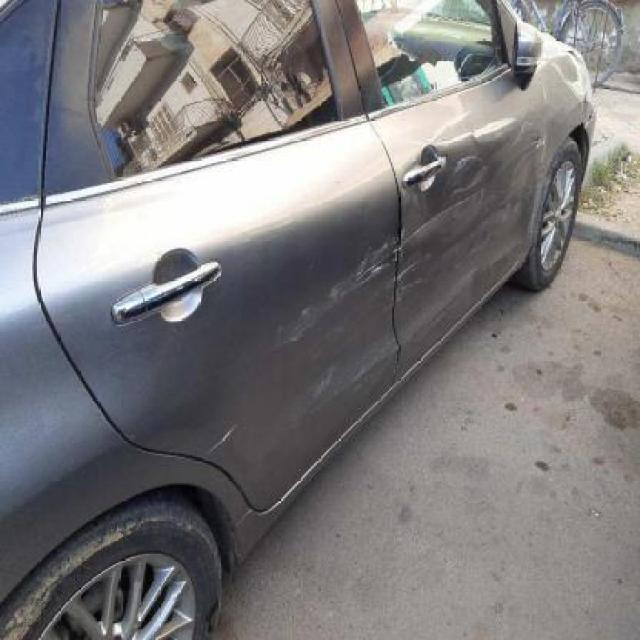car damage: (428, 116, 513, 210)
